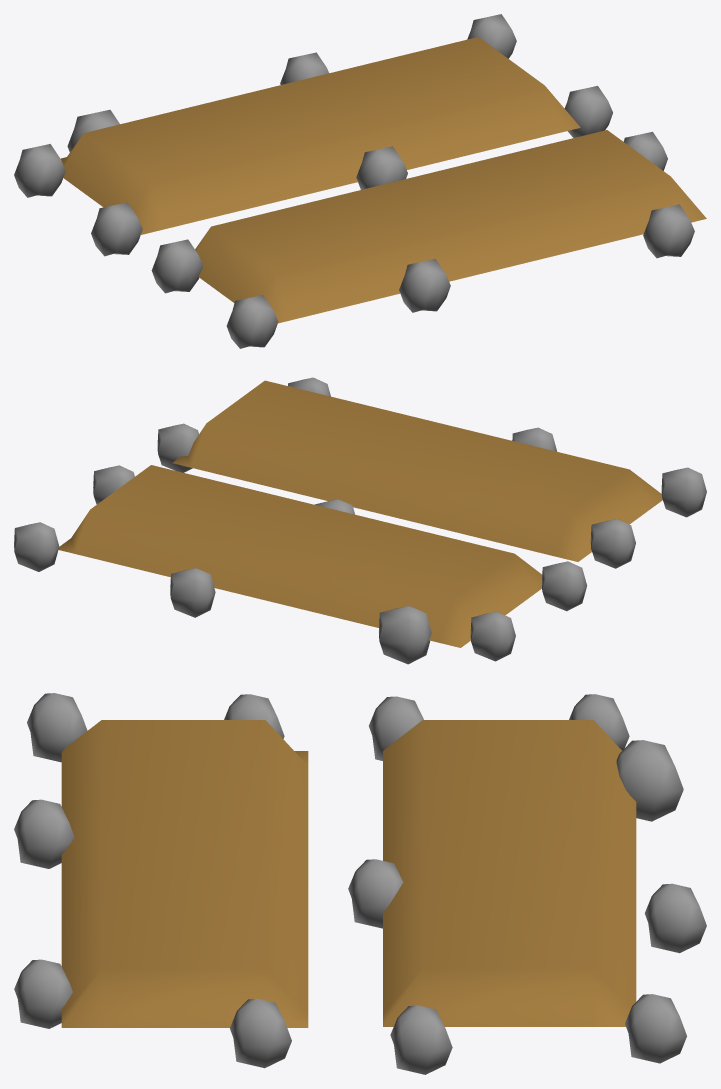
The model's file is Farm.fbx.
3 renders of one model, top to bottom at view 1: azimuth 30°, elevation 25°; view 2: azimuth 150°, elevation 25°; view 3: azimuth 270°, elevation 25°, orthographic. The views are drawn at different scales.
Visible parts, largest first — view 1: Farm; view 2: Farm; view 3: Farm.
Part boxes in pixels (left/top/right/bottom): Farm: left=14, top=14, right=706, bottom=348; Farm: left=14, top=377, right=706, bottom=664; Farm: left=14, top=693, right=706, bottom=1074.
Size of the model in its own units: 6.19 by 0.677 by 5.53.
1 material, 1 textured.
